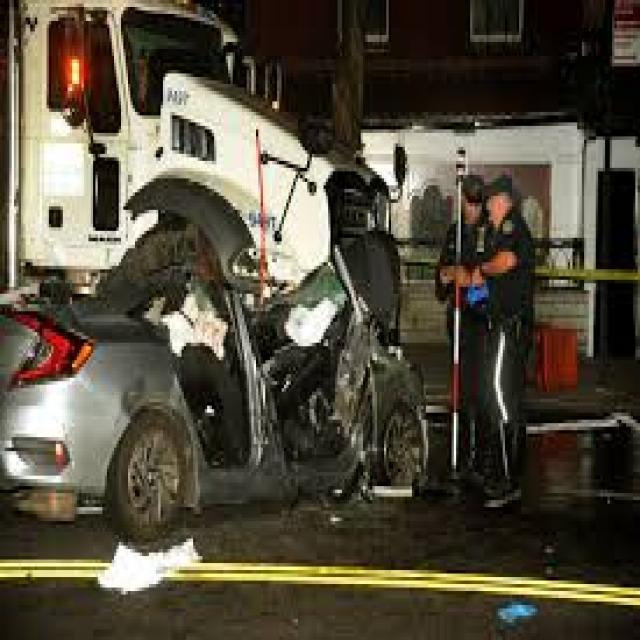accident: (14, 15, 449, 617)
